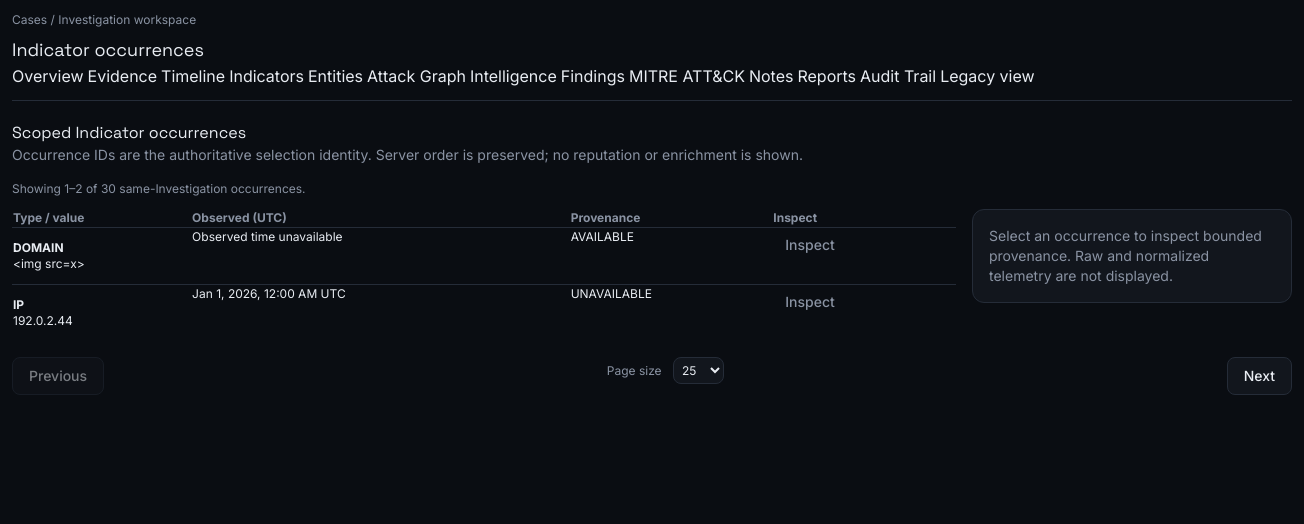
Test: scoped Entity and Indicator workspaces › uses occurrence ID as the only Indicator selection authority and never queries global Indicator detail
expect the text "<img src=x>" is shown: met, box left=13, top=256, right=85, bottom=271
Click the button with aria-label "Inspect occurrence occurrence-b": (810, 245) left=773, top=229, right=847, bottom=261
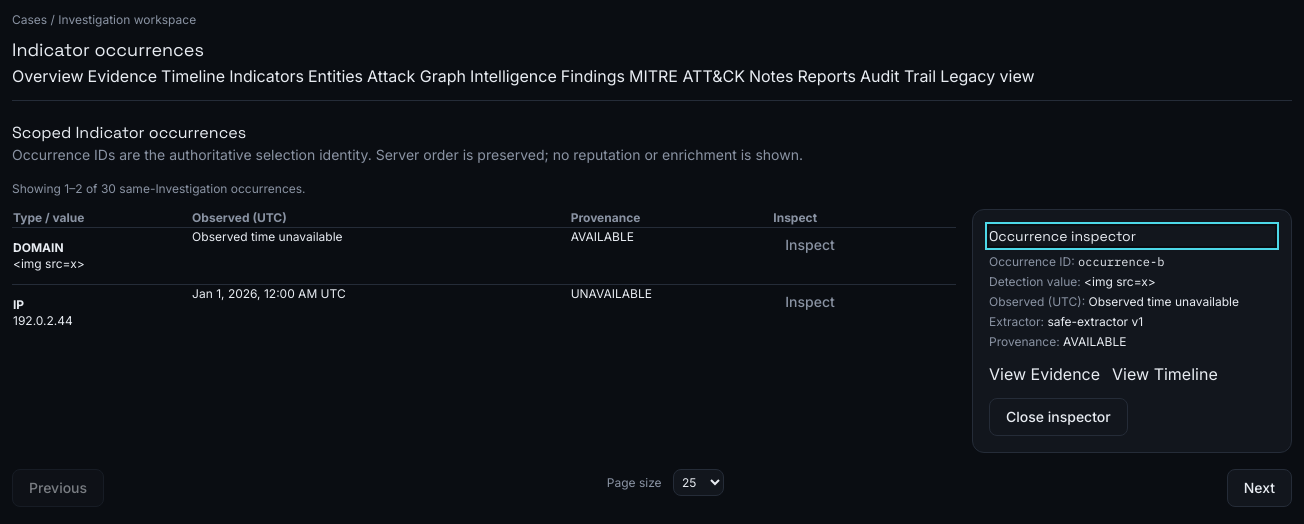
expect the text "Observed time unavailable" is shown: met, box left=191, top=228, right=570, bottom=284
expect the text "occurrence-b" is shown: met, box left=1078, top=254, right=1164, bottom=269
